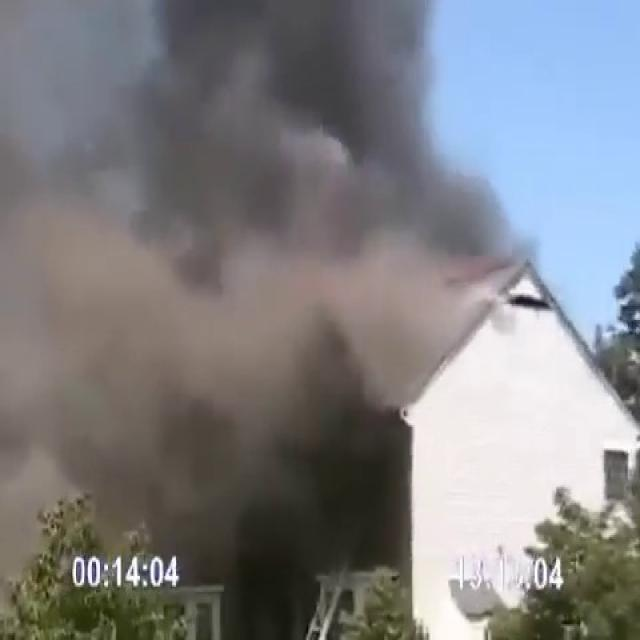Smoke: (1, 0, 497, 635)
